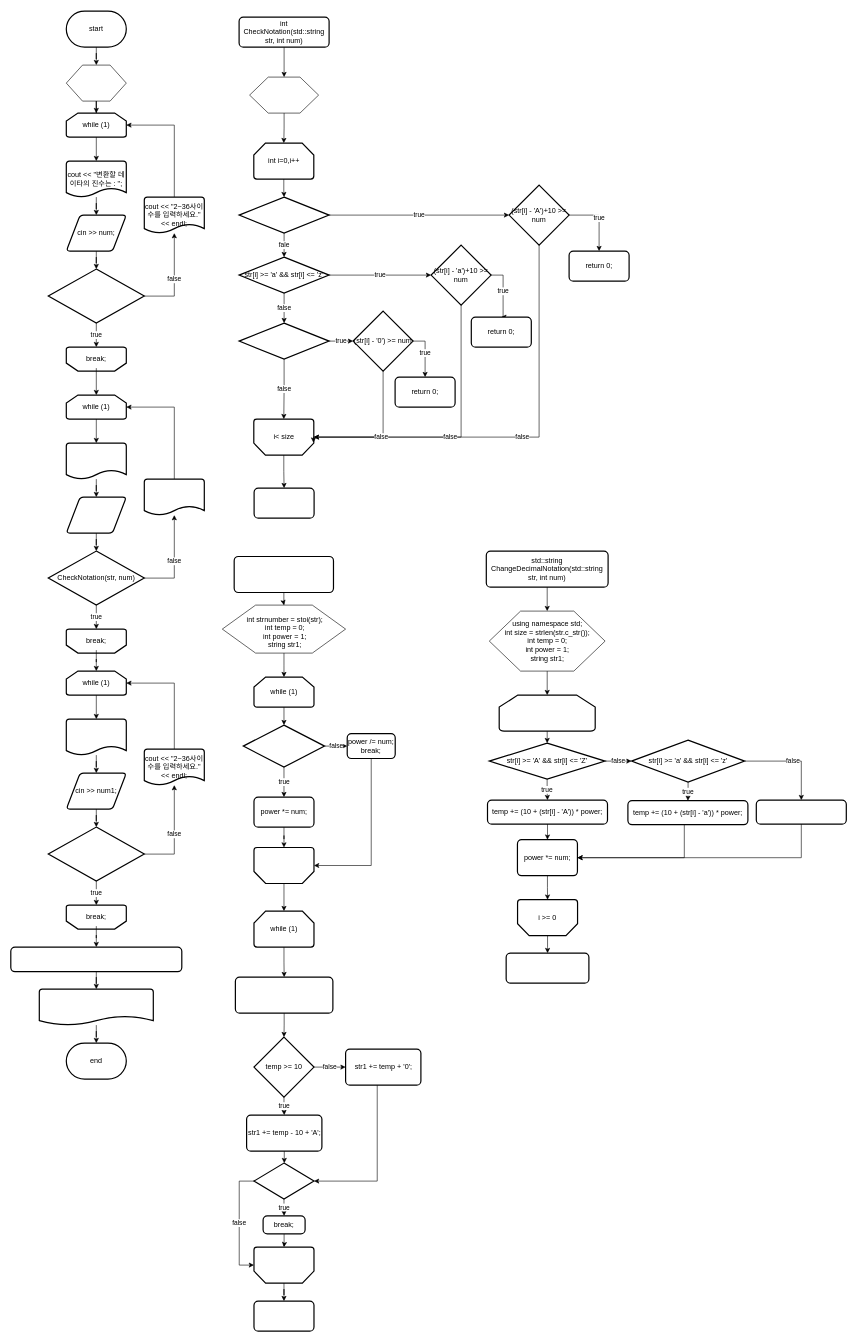
Some shapes in this 857 by 1342 pixel diagram are drawn without their labels. The shapes that lost their labels are listed below. From the top down, each one's centre as x and y in pixels, then its label:
the point at 96,82: string str; int num = 0, num1 = 0;
the point at 284,94: int size = strlen(str.c_str());
the point at 283,214: str[i] >= 'A'&&str[i]<='Z'
the point at 96,295: num >= 2 && num <= 36
the point at 283,340: str[i] >= '0' && str[i] <= '9'
the point at 96,460: cout << "데이타를 입력하시오 : ";
the point at 96,514: str
the point at 174,496: cout << num<<"진수" << "에 맞춰서 데이터를 입력하세요." << endl;
the point at 283,502: return 1;
the point at 283,574: std::string ChangeNotation(std::string str, int num)
the point at 547,712: int i = size - 1, i--
the point at 96,736: cout << "출력할 데이타의 진수는 : ";
the point at 283,745: power <= strnumber
the point at 801,811: temp += (str[i] - '0') * power;
the point at 96,853: num1 >= 2 && num1 <= 36
the point at 96,959: str = ChangeNotation(ChangeDecimalNotation(str, num), num1);
the point at 547,967: str1 = to_string(temp); return str1;
the point at 96,1006: cout <<"변환된 데이타는 : "<<str;
the point at 283,994: temp = strnumber / power; strnumber -= temp * power; power /= num;
the point at 283,1180: power == 0
the point at 283,1315: return str1;
